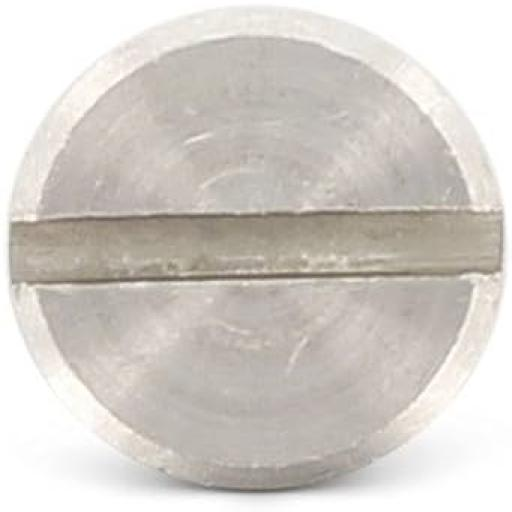Slotted: (13, 0, 506, 499)
